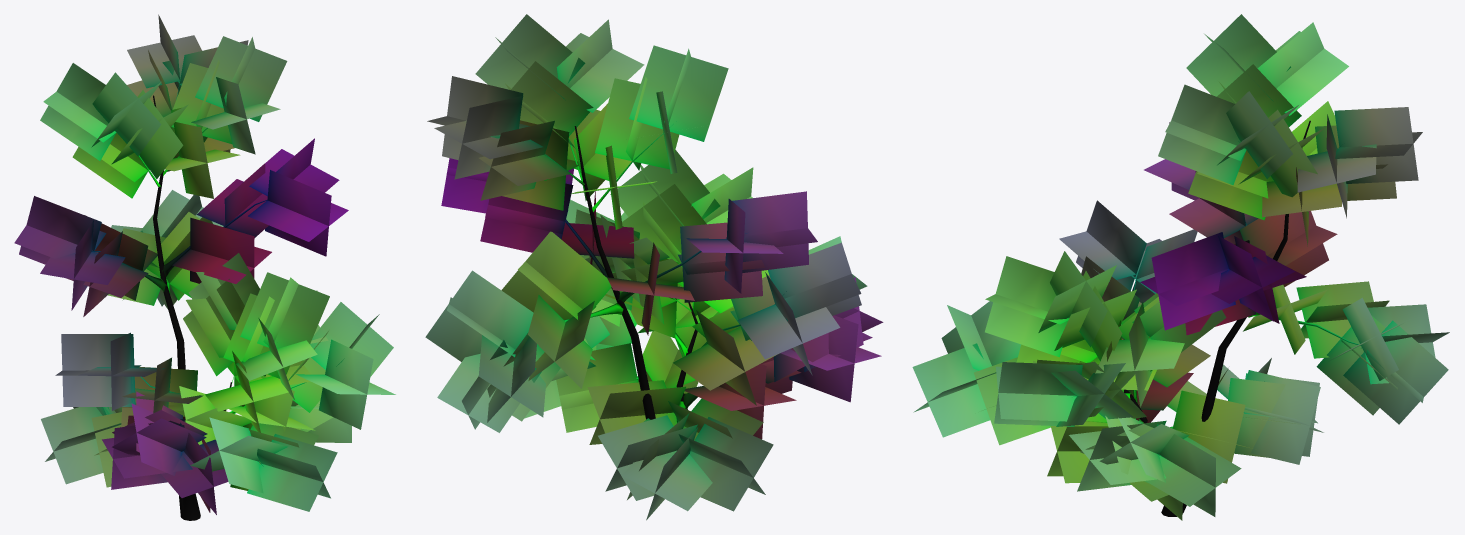
File: URP_P3_Tree_5_LOD_2.fbx
3 views of the same model, side by side, from view 1: azimuth 30°, elevation 25°; view 2: azimuth 150°, elevation 25°; view 3: azimuth 270°, elevation 25° (orthographic). The views are drawn at different scales.
Visible parts, largest first — view 1: Tree_5_LOD_2; view 2: Tree_5_LOD_2; view 3: Tree_5_LOD_2.
Part boxes in pixels (x1,y1,x2,y2): Tree_5_LOD_2: [14, 14, 395, 520]; Tree_5_LOD_2: [425, 14, 883, 520]; Tree_5_LOD_2: [912, 14, 1449, 520].
Bounding box in the file's own units: 558 × 728 × 748.
